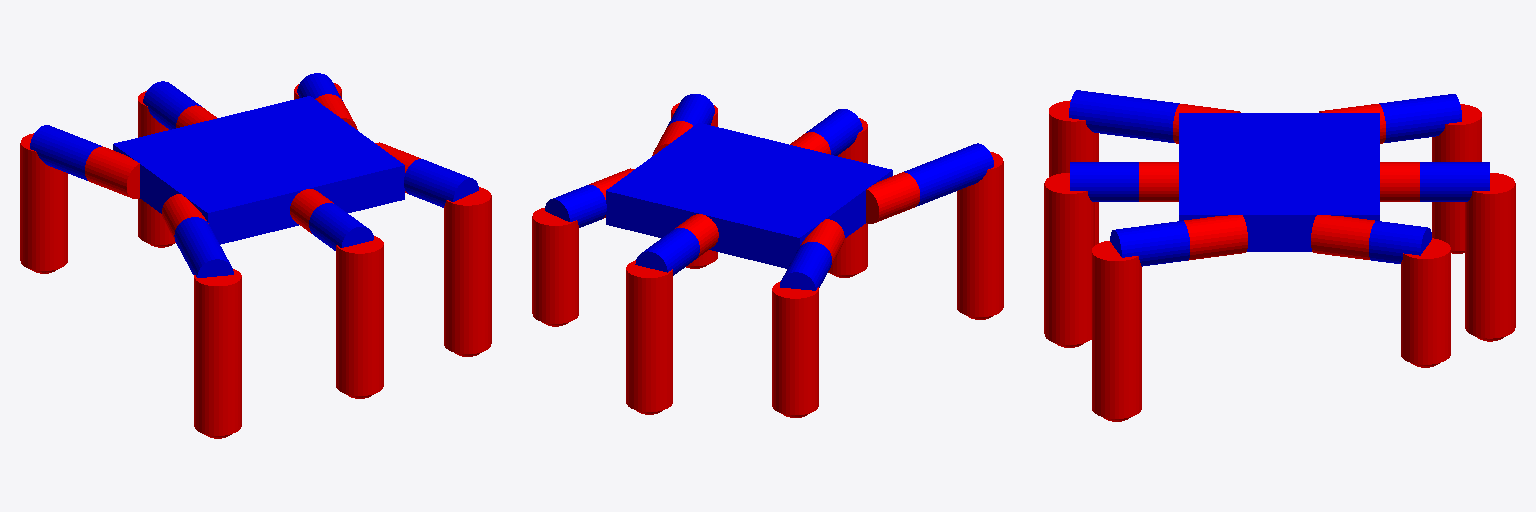
--- Facts derived from the render (not from the file) ---
The picture shows the robot from 3 angles, left to right: view 1: azimuth 30°, elevation 25°; view 2: azimuth 150°, elevation 25°; view 3: azimuth 270°, elevation 25°; orthographic projection.
Robot: pexod — 19 links, 18 joints (18 revolute); root link base_link; default pose: every joint at zero.
Visible links, largest first — view 1: base_link, leg_5_3, leg_3_3, leg_4_3, leg_0_3, leg_5_2, leg_3_2, leg_0_2, leg_0_1, leg_4_2, leg_1_3, leg_1_2 (+5 smaller); view 2: base_link, leg_1_3, leg_5_3, leg_0_3, leg_2_3, leg_5_2, leg_5_1, leg_4_3, leg_1_2, leg_0_2, leg_2_2, leg_4_2 (+3 smaller); view 3: base_link, leg_3_3, leg_4_3, leg_1_3, leg_2_3, leg_5_2, leg_0_3, leg_0_2, leg_5_3, leg_3_2, leg_1_2, leg_4_2 (+7 smaller).
Link boxes in pixels (x1,y1,x2,y2): base_link: [113, 96, 404, 244]; leg_5_3: [194, 269, 241, 438]; leg_3_3: [444, 187, 491, 356]; leg_4_3: [336, 236, 383, 398]; leg_0_3: [20, 133, 67, 273]; leg_5_2: [174, 217, 233, 277]; leg_3_2: [404, 159, 478, 207]; leg_0_2: [30, 125, 101, 180]; leg_0_1: [85, 146, 139, 198]; leg_4_2: [309, 203, 373, 250]; leg_1_3: [138, 91, 175, 247]; leg_1_2: [143, 81, 201, 129]; base_link: [606, 123, 892, 268]; leg_1_3: [626, 260, 672, 414]; leg_5_3: [957, 152, 1003, 319]; leg_0_3: [772, 281, 818, 417]; leg_2_3: [532, 208, 578, 326]; leg_5_2: [904, 143, 993, 206]; leg_5_1: [866, 172, 919, 223]; leg_4_3: [828, 118, 867, 277]; leg_1_2: [635, 228, 699, 275]; leg_0_2: [780, 242, 831, 290]; leg_2_2: [545, 185, 606, 227]; leg_4_2: [806, 109, 862, 155]; base_link: [1179, 113, 1379, 251]; leg_3_3: [1092, 241, 1141, 421]; leg_4_3: [1044, 173, 1094, 347]; leg_1_3: [1465, 173, 1515, 341]; leg_2_3: [1401, 238, 1450, 367]; leg_5_2: [1069, 90, 1179, 142]; leg_0_3: [1432, 104, 1481, 253]; leg_0_2: [1379, 94, 1461, 142]; leg_5_3: [1049, 100, 1098, 244]; leg_3_2: [1110, 221, 1189, 266]; leg_1_2: [1420, 162, 1489, 201]; leg_4_2: [1070, 162, 1138, 201].
Size in the robot's own frame: 0.3782 by 0.4679 by 0.2062 metres.
Geometry: primitives only (box / cylinder / sphere), no mesh files.

The robot description file, URDF, robot "pexod":
<?xml version="1.0" ?>
<!-- =================================================================================== -->
<!-- |    This document was autogenerated by xacro from pexod.xacro                    | -->
<!-- |    EDITING THIS FILE BY HAND IS NOT RECOMMENDED                                 | -->
<!-- =================================================================================== -->
<robot name="pexod" xmlns:xacro="http://www.ros.org/wiki/xacro">
  <!-- <xacro:include filename="$(find pexod_description)/urdf/pexod_control.xacro" /> -->
  <!-- MATERIALS -->
  <material name="Blue">
    <color rgba="0 0 1 1"/>
  </material>
  <material name="Red">
    <color rgba="1 0 0 1"/>
  </material>
  <material name="Green">
    <color rgba="0 1 0 1"/>
  </material>
  <material name="Yellow">
    <color rgba="1 1 0 1"/>
  </material>
  <material name="LightGrey">
    <color rgba="0.6 0.6 0.6 1.0"/>
  </material>
  <!-- END OF MATERIALS -->
  <!-- XACRO MACROS FOR VISUALS AND COLLISIONS -->
  <!-- END OF XACRO MACROS -->
  <!-- TORSO -->
  <link name="base_link">
    <visual>
      <origin rpy="0 0 0" xyz="0 0 0"/>
      <geometry>
        <box size="0.24 0.2 0.04"/>
      </geometry>
      <material name="Blue"/>
    </visual>
    <collision>
      <origin rpy="0 0 0" xyz="0 0 0"/>
      <geometry>
        <box size="0.24 0.2 0.04"/>
      </geometry>
    </collision>
    <inertial>
      <!-- CENTER OF MASS -->
      <origin rpy="0 0 0" xyz="0 0 0"/>
      <mass value="1.031"/>
      <!-- box inertia: 1/12*m(y^2+z^2), ... -->
      <inertia ixx="0.00357413333333" ixy="0" ixz="0" iyy="0.00508626666667" iyz="0" izz="0.00838546666667"/>
    </inertial>
  </link>
  <!-- XACRO MACRO FOR LEGS LINKS/JOINTS -->
  <!-- END OF LEG LINKS/JOINTS -->
  <joint name="body_leg_2" type="revolute">
    <parent link="base_link"/>
    <child link="leg_2_1"/>
    <limit effort="30.0" lower="-1.57079632679" upper="1.57079632679" velocity="7.0"/>
    <origin rpy="0 0 -0.3" xyz="0.11 0.04 0"/>
    <!-- <xacro:if value="${index == 5 or index == 4 or index == 3}">
                <axis xyz="0 0 1"/>
            </xacro:if>
            <xacro:if value="${index == 2 or index == 1 or index == 0}"> -->
    <axis xyz="0 0 1"/>
    <!-- </xacro:if> -->
    <dynamics damping="0.0"/>
  </joint>
  <link name="leg_2_1">
    <visual>
      <origin rpy="1.57079632679 0 0" xyz="0.01 0.03 0"/>
      <geometry>
        <cylinder length="0.06" radius="0.02"/>
      </geometry>
      <material name="Red"/>
    </visual>
    <collision>
      <origin rpy="1.57079632679 0 0" xyz="0.01 0.03 0"/>
      <geometry>
        <box size="0.02 0.02 0.06"/>
      </geometry>
    </collision>
    <inertial>
      <!-- CENTER OF MASS -->
      <origin rpy="1.57079632679 0 0" xyz="0.01 0.03 0"/>
      <mass value="0.02"/>
      <!-- box inertia: 1/12*m(y^2+z^2), ... -->
      <inertia ixx="6.66666666667e-06" ixy="0" ixz="0" iyy="6.66666666667e-06" iyz="0" izz="1.33333333333e-06"/>
    </inertial>
  </link>
  <joint name="leg_2_1_2" type="revolute">
    <parent link="leg_2_1"/>
    <child link="leg_2_2"/>
    <limit effort="30.0" lower="-0.78539816339" upper="0.78539816339" velocity="7.0"/>
    <origin rpy="0 0 0" xyz="0 0.06 0"/>
    <axis xyz="1 0 0"/>
    <dynamics damping="0.0"/>
  </joint>
  <link name="leg_2_2">
    <visual>
      <origin rpy="1.57079632679 0 0" xyz="0.01 0.0269366507608 0"/>
      <geometry>
        <cylinder length="0.0538733015215" radius="0.02"/>
      </geometry>
      <material name="Blue"/>
    </visual>
    <collision>
      <origin rpy="1.57079632679 0 0" xyz="0.01 0.0269366507608 0"/>
      <geometry>
        <box size="0.02 0.02 0.0538733015215"/>
      </geometry>
    </collision>
    <inertial>
      <!-- CENTER OF MASS -->
      <origin rpy="1.57079632679 0 0" xyz="0.01 0.0269366507608 0"/>
      <mass value="0.184"/>
      <!-- box inertia: 1/12*m(y^2+z^2), ... -->
      <inertia ixx="5.06357667913e-05" ixy="0" ixz="0" iyy="5.06357667913e-05" iyz="0" izz="1.22666666667e-05"/>
    </inertial>
  </link>
  <joint name="leg_2_2_3" type="revolute">
    <parent link="leg_2_2"/>
    <child link="leg_2_3"/>
    <limit effort="30.0" lower="-0.78539816339" upper="0.78539816339" velocity="7.0"/>
    <origin rpy="-1.57079632679 0 0" xyz="0 0.0538733015215 0"/>
    <axis xyz="-1 0 0"/>
    <dynamics damping="0.0"/>
  </joint>
  <link name="leg_2_3">
    <visual>
      <origin rpy="1.57079632679 0 0" xyz="0.0125 0.0579227001735 0"/>
      <geometry>
        <cylinder length="0.115845400347" radius="0.025"/>
      </geometry>
      <material name="Red"/>
    </visual>
    <visual>
      <origin rpy="1.57079632679 0 0" xyz="0.0125 0.103345400347 0"/>
      <geometry>
        <sphere radius="0.025"/>
      </geometry>
      <material name="Red"/>
    </visual>
    <collision>
      <origin rpy="1.57079632679 0 0" xyz="0.0125 0.0579227001735 0"/>
      <geometry>
        <box size="0.025 0.025 0.115845400347"/>
      </geometry>
    </collision>
    <collision>
      <origin rpy="1.57079632679 0 0" xyz="0.0125 0.103345400347 0"/>
      <geometry>
        <sphere radius="0.025"/>
      </geometry>
      <material name="Red"/>
    </collision>
    <inertial>
      <!-- CENTER OF MASS -->
      <origin rpy="1.57079632679 0 0" xyz="0.0125 0.0579227001735 0"/>
      <mass value="0.04"/>
      <!-- box inertia: 1/12*m(y^2+z^2), ... -->
      <inertia ixx="4.68171892719e-05" ixy="0" ixz="0" iyy="4.68171892719e-05" iyz="0" izz="4.16666666667e-06"/>
    </inertial>
  </link>
  <joint name="body_leg_3" type="revolute">
    <parent link="base_link"/>
    <child link="leg_3_1"/>
    <limit effort="30.0" lower="-1.57079632679" upper="1.57079632679" velocity="7.0"/>
    <origin rpy="0 0 0.3" xyz="0.11 -0.04 0"/>
    <!-- <xacro:if value="${index == 5 or index == 4 or index == 3}">
                <axis xyz="0 0 1"/>
            </xacro:if>
            <xacro:if value="${index == 2 or index == 1 or index == 0}"> -->
    <axis xyz="0 0 1"/>
    <!-- </xacro:if> -->
    <dynamics damping="0.0"/>
  </joint>
  <link name="leg_3_1">
    <visual>
      <origin rpy="1.57079632679 0 0" xyz="0.01 -0.03 0"/>
      <geometry>
        <cylinder length="0.06" radius="0.02"/>
      </geometry>
      <material name="Red"/>
    </visual>
    <collision>
      <origin rpy="1.57079632679 0 0" xyz="0.01 -0.03 0"/>
      <geometry>
        <box size="0.02 0.02 0.06"/>
      </geometry>
    </collision>
    <inertial>
      <!-- CENTER OF MASS -->
      <origin rpy="1.57079632679 0 0" xyz="0.01 -0.03 0"/>
      <mass value="0.02"/>
      <!-- box inertia: 1/12*m(y^2+z^2), ... -->
      <inertia ixx="6.66666666667e-06" ixy="0" ixz="0" iyy="6.66666666667e-06" iyz="0" izz="1.33333333333e-06"/>
    </inertial>
  </link>
  <joint name="leg_3_1_2" type="revolute">
    <parent link="leg_3_1"/>
    <child link="leg_3_2"/>
    <limit effort="30.0" lower="-0.78539816339" upper="0.78539816339" velocity="7.0"/>
    <origin rpy="0 0 0" xyz="0 -0.06 0"/>
    <axis xyz="-1 0 0"/>
    <dynamics damping="0.0"/>
  </joint>
  <link name="leg_3_2">
    <visual>
      <origin rpy="1.57079632679 0 0" xyz="0.01 -0.0355808342289 0"/>
      <geometry>
        <cylinder length="0.0711616684579" radius="0.02"/>
      </geometry>
      <material name="Blue"/>
    </visual>
    <collision>
      <origin rpy="1.57079632679 0 0" xyz="0.01 -0.0355808342289 0"/>
      <geometry>
        <box size="0.02 0.02 0.0711616684579"/>
      </geometry>
    </collision>
    <inertial>
      <!-- CENTER OF MASS -->
      <origin rpy="1.57079632679 0 0" xyz="0.01 -0.0355808342289 0"/>
      <mass value="0.184"/>
      <!-- box inertia: 1/12*m(y^2+z^2), ... -->
      <inertia ixx="8.37810735516e-05" ixy="0" ixz="0" iyy="8.37810735516e-05" iyz="0" izz="1.22666666667e-05"/>
    </inertial>
  </link>
  <joint name="leg_3_2_3" type="revolute">
    <parent link="leg_3_2"/>
    <child link="leg_3_3"/>
    <limit effort="30.0" lower="-0.78539816339" upper="0.78539816339" velocity="7.0"/>
    <origin rpy="1.57079632679 0 0" xyz="0 -0.0711616684579 0"/>
    <axis xyz="1 0 0"/>
    <dynamics damping="0.0"/>
  </joint>
  <link name="leg_3_3">
    <visual>
      <origin rpy="1.57079632679 0 0" xyz="0.0125 -0.08635104455 0"/>
      <geometry>
        <cylinder length="0.1727020891" radius="0.025"/>
      </geometry>
      <material name="Red"/>
    </visual>
    <visual>
      <origin rpy="1.57079632679 0 0" xyz="0.0125 -0.1602020891 0"/>
      <geometry>
        <sphere radius="0.025"/>
      </geometry>
      <material name="Red"/>
    </visual>
    <collision>
      <origin rpy="1.57079632679 0 0" xyz="0.0125 -0.08635104455 0"/>
      <geometry>
        <box size="0.025 0.025 0.1727020891"/>
      </geometry>
    </collision>
    <collision>
      <origin rpy="1.57079632679 0 0" xyz="0.0125 -0.1602020891 0"/>
      <geometry>
        <sphere radius="0.025"/>
      </geometry>
      <material name="Red"/>
    </collision>
    <inertial>
      <!-- CENTER OF MASS -->
      <origin rpy="1.57079632679 0 0" xyz="0.0125 -0.08635104455 0"/>
      <mass value="0.04"/>
      <!-- box inertia: 1/12*m(y^2+z^2), ... -->
      <inertia ixx="0.000101503371932" ixy="0" ixz="0" iyy="0.000101503371932" iyz="0" izz="4.16666666667e-06"/>
    </inertial>
  </link>
  <joint name="body_leg_0" type="revolute">
    <parent link="base_link"/>
    <child link="leg_0_1"/>
    <limit effort="30.0" lower="-1.57079632679" upper="1.57079632679" velocity="7.0"/>
    <origin rpy="0 0 0.3" xyz="-0.13 0.04 0"/>
    <!-- <xacro:if value="${index == 5 or index == 4 or index == 3}">
                <axis xyz="0 0 1"/>
            </xacro:if>
            <xacro:if value="${index == 2 or index == 1 or index == 0}"> -->
    <axis xyz="0 0 1"/>
    <!-- </xacro:if> -->
    <dynamics damping="0.0"/>
  </joint>
  <link name="leg_0_1">
    <visual>
      <origin rpy="1.57079632679 0 0" xyz="0.01 0.03 0"/>
      <geometry>
        <cylinder length="0.06" radius="0.02"/>
      </geometry>
      <material name="Red"/>
    </visual>
    <collision>
      <origin rpy="1.57079632679 0 0" xyz="0.01 0.03 0"/>
      <geometry>
        <box size="0.02 0.02 0.06"/>
      </geometry>
    </collision>
    <inertial>
      <!-- CENTER OF MASS -->
      <origin rpy="1.57079632679 0 0" xyz="0.01 0.03 0"/>
      <mass value="0.02"/>
      <!-- box inertia: 1/12*m(y^2+z^2), ... -->
      <inertia ixx="6.66666666667e-06" ixy="0" ixz="0" iyy="6.66666666667e-06" iyz="0" izz="1.33333333333e-06"/>
    </inertial>
  </link>
  <joint name="leg_0_1_2" type="revolute">
    <parent link="leg_0_1"/>
    <child link="leg_0_2"/>
    <limit effort="30.0" lower="-0.78539816339" upper="0.78539816339" velocity="7.0"/>
    <origin rpy="0 0 0" xyz="0 0.06 0"/>
    <axis xyz="1 0 0"/>
    <dynamics damping="0.0"/>
  </joint>
  <link name="leg_0_2">
    <visual>
      <origin rpy="1.57079632679 0 0" xyz="0.01 0.0395444746221 0"/>
      <geometry>
        <cylinder length="0.0790889492442" radius="0.02"/>
      </geometry>
      <material name="Blue"/>
    </visual>
    <collision>
      <origin rpy="1.57079632679 0 0" xyz="0.01 0.0395444746221 0"/>
      <geometry>
        <box size="0.02 0.02 0.0790889492442"/>
      </geometry>
    </collision>
    <inertial>
      <!-- CENTER OF MASS -->
      <origin rpy="1.57079632679 0 0" xyz="0.01 0.0395444746221 0"/>
      <mass value="0.184"/>
      <!-- box inertia: 1/12*m(y^2+z^2), ... -->
      <inertia ixx="0.000102044282352" ixy="0" ixz="0" iyy="0.000102044282352" iyz="0" izz="1.22666666667e-05"/>
    </inertial>
  </link>
  <joint name="leg_0_2_3" type="revolute">
    <parent link="leg_0_2"/>
    <child link="leg_0_3"/>
    <limit effort="30.0" lower="-0.78539816339" upper="0.78539816339" velocity="7.0"/>
    <origin rpy="-1.57079632679 0 0" xyz="0 0.0790889492442 0"/>
    <axis xyz="-1 0 0"/>
    <dynamics damping="0.0"/>
  </joint>
  <link name="leg_0_3">
    <visual>
      <origin rpy="1.57079632679 0 0" xyz="0.0125 0.0689730925875 0"/>
      <geometry>
        <cylinder length="0.137946185175" radius="0.025"/>
      </geometry>
      <material name="Red"/>
    </visual>
    <visual>
      <origin rpy="1.57079632679 0 0" xyz="0.0125 0.125446185175 0"/>
      <geometry>
        <sphere radius="0.025"/>
      </geometry>
      <material name="Red"/>
    </visual>
    <collision>
      <origin rpy="1.57079632679 0 0" xyz="0.0125 0.0689730925875 0"/>
      <geometry>
        <box size="0.025 0.025 0.137946185175"/>
      </geometry>
    </collision>
    <collision>
      <origin rpy="1.57079632679 0 0" xyz="0.0125 0.125446185175 0"/>
      <geometry>
        <sphere radius="0.025"/>
      </geometry>
      <material name="Red"/>
    </collision>
    <inertial>
      <!-- CENTER OF MASS -->
      <origin rpy="1.57079632679 0 0" xyz="0.0125 0.0689730925875 0"/>
      <mass value="0.04"/>
      <!-- box inertia: 1/12*m(y^2+z^2), ... -->
      <inertia ixx="6.55138333478e-05" ixy="0" ixz="0" iyy="6.55138333478e-05" iyz="0" izz="4.16666666667e-06"/>
    </inertial>
  </link>
  <joint name="body_leg_5" type="revolute">
    <parent link="base_link"/>
    <child link="leg_5_1"/>
    <limit effort="30.0" lower="-1.57079632679" upper="1.57079632679" velocity="7.0"/>
    <origin rpy="0 0 -0.3" xyz="-0.13 -0.04 0"/>
    <!-- <xacro:if value="${index == 5 or index == 4 or index == 3}">
                <axis xyz="0 0 1"/>
            </xacro:if>
            <xacro:if value="${index == 2 or index == 1 or index == 0}"> -->
    <axis xyz="0 0 1"/>
    <!-- </xacro:if> -->
    <dynamics damping="0.0"/>
  </joint>
  <link name="leg_5_1">
    <visual>
      <origin rpy="1.57079632679 0 0" xyz="0.01 -0.03 0"/>
      <geometry>
        <cylinder length="0.06" radius="0.02"/>
      </geometry>
      <material name="Red"/>
    </visual>
    <collision>
      <origin rpy="1.57079632679 0 0" xyz="0.01 -0.03 0"/>
      <geometry>
        <box size="0.02 0.02 0.06"/>
      </geometry>
    </collision>
    <inertial>
      <!-- CENTER OF MASS -->
      <origin rpy="1.57079632679 0 0" xyz="0.01 -0.03 0"/>
      <mass value="0.02"/>
      <!-- box inertia: 1/12*m(y^2+z^2), ... -->
      <inertia ixx="6.66666666667e-06" ixy="0" ixz="0" iyy="6.66666666667e-06" iyz="0" izz="1.33333333333e-06"/>
    </inertial>
  </link>
  <joint name="leg_5_1_2" type="revolute">
    <parent link="leg_5_1"/>
    <child link="leg_5_2"/>
    <limit effort="30.0" lower="-0.78539816339" upper="0.78539816339" velocity="7.0"/>
    <origin rpy="0 0 0" xyz="0 -0.06 0"/>
    <axis xyz="-1 0 0"/>
    <dynamics damping="0.0"/>
  </joint>
  <link name="leg_5_2">
    <visual>
      <origin rpy="1.57079632679 0 0" xyz="0.01 -0.0540681912255 0"/>
      <geometry>
        <cylinder length="0.108136382451" radius="0.02"/>
      </geometry>
      <material name="Blue"/>
    </visual>
    <collision>
      <origin rpy="1.57079632679 0 0" xyz="0.01 -0.0540681912255 0"/>
      <geometry>
        <box size="0.02 0.02 0.108136382451"/>
      </geometry>
    </collision>
    <inertial>
      <!-- CENTER OF MASS -->
      <origin rpy="1.57079632679 0 0" xyz="0.01 -0.0540681912255 0"/>
      <mass value="0.184"/>
      <!-- box inertia: 1/12*m(y^2+z^2), ... -->
      <inertia ixx="0.000185433317214" ixy="0" ixz="0" iyy="0.000185433317214" iyz="0" izz="1.22666666667e-05"/>
    </inertial>
  </link>
  <joint name="leg_5_2_3" type="revolute">
    <parent link="leg_5_2"/>
    <child link="leg_5_3"/>
    <limit effort="30.0" lower="-0.78539816339" upper="0.78539816339" velocity="7.0"/>
    <origin rpy="1.57079632679 0 0" xyz="0 -0.108136382451 0"/>
    <axis xyz="1 0 0"/>
    <dynamics damping="0.0"/>
  </joint>
  <link name="leg_5_3">
    <visual>
      <origin rpy="1.57079632679 0 0" xyz="0.0125 -0.0868702571315 0"/>
      <geometry>
        <cylinder length="0.173740514263" radius="0.025"/>
      </geometry>
      <material name="Red"/>
    </visual>
    <visual>
      <origin rpy="1.57079632679 0 0" xyz="0.0125 -0.161240514263 0"/>
      <geometry>
        <sphere radius="0.025"/>
      </geometry>
      <material name="Red"/>
    </visual>
    <collision>
      <origin rpy="1.57079632679 0 0" xyz="0.0125 -0.0868702571315 0"/>
      <geometry>
        <box size="0.025 0.025 0.173740514263"/>
      </geometry>
    </collision>
    <collision>
      <origin rpy="1.57079632679 0 0" xyz="0.0125 -0.161240514263 0"/>
      <geometry>
        <sphere radius="0.025"/>
      </geometry>
      <material name="Red"/>
    </collision>
    <inertial>
      <!-- CENTER OF MASS -->
      <origin rpy="1.57079632679 0 0" xyz="0.0125 -0.0868702571315 0"/>
      <mass value="0.04"/>
      <!-- box inertia: 1/12*m(y^2+z^2), ... -->
      <inertia ixx="0.000102702554321" ixy="0" ixz="0" iyy="0.000102702554321" iyz="0" izz="4.16666666667e-06"/>
    </inertial>
  </link>
  <joint name="body_leg_1" type="revolute">
    <parent link="base_link"/>
    <child link="leg_1_1"/>
    <limit effort="30.0" lower="-1.57079632679" upper="1.57079632679" velocity="7.0"/>
    <origin rpy="0 0 0" xyz="-0.01 0.08 0"/>
    <!-- <xacro:if value="${index == 5 or index == 4 or index == 3}">
                <axis xyz="0 0 1"/>
            </xacro:if>
            <xacro:if value="${index == 2 or index == 1 or index == 0}"> -->
    <axis xyz="0 0 1"/>
    <!-- </xacro:if> -->
    <dynamics damping="0.0"/>
  </joint>
  <link name="leg_1_1">
    <visual>
      <origin rpy="1.57079632679 0 0" xyz="0.01 0.03 0"/>
      <geometry>
        <cylinder length="0.06" radius="0.02"/>
      </geometry>
      <material name="Red"/>
    </visual>
    <collision>
      <origin rpy="1.57079632679 0 0" xyz="0.01 0.03 0"/>
      <geometry>
        <box size="0.02 0.02 0.06"/>
      </geometry>
    </collision>
    <inertial>
      <!-- CENTER OF MASS -->
      <origin rpy="1.57079632679 0 0" xyz="0.01 0.03 0"/>
      <mass value="0.02"/>
      <!-- box inertia: 1/12*m(y^2+z^2), ... -->
      <inertia ixx="6.66666666667e-06" ixy="0" ixz="0" iyy="6.66666666667e-06" iyz="0" izz="1.33333333333e-06"/>
    </inertial>
  </link>
  <joint name="leg_1_1_2" type="revolute">
    <parent link="leg_1_1"/>
    <child link="leg_1_2"/>
    <limit effort="30.0" lower="-0.78539816339" upper="0.78539816339" velocity="7.0"/>
    <origin rpy="0 0 0" xyz="0 0.06 0"/>
    <axis xyz="1 0 0"/>
    <dynamics damping="0.0"/>
  </joint>
  <link name="leg_1_2">
    <visual>
      <origin rpy="1.57079632679 0 0" xyz="0.01 0.0347048621147 0"/>
      <geometry>
        <cylinder length="0.0694097242294" radius="0.02"/>
      </geometry>
      <material name="Blue"/>
    </visual>
    <collision>
      <origin rpy="1.57079632679 0 0" xyz="0.01 0.0347048621147 0"/>
      <geometry>
        <box size="0.02 0.02 0.0694097242294"/>
      </geometry>
    </collision>
    <inertial>
      <!-- CENTER OF MASS -->
      <origin rpy="1.57079632679 0 0" xyz="0.01 0.0347048621147 0"/>
      <mass value="0.184"/>
      <!-- box inertia: 1/12*m(y^2+z^2), ... -->
      <inertia ixx="8.00048838699e-05" ixy="0" ixz="0" iyy="8.00048838699e-05" iyz="0" izz="1.22666666667e-05"/>
    </inertial>
  </link>
  <joint name="leg_1_2_3" type="revolute">
    <parent link="leg_1_2"/>
    <child link="leg_1_3"/>
    <limit effort="30.0" lower="-0.78539816339" upper="0.78539816339" velocity="7.0"/>
    <origin rpy="-1.57079632679 0 0" xyz="0 0.0694097242294 0"/>
    <axis xyz="-1 0 0"/>
    <dynamics damping="0.0"/>
  </joint>
  <link name="leg_1_3">
    <visual>
      <origin rpy="1.57079632679 0 0" xyz="0.0125 0.0792342949395 0"/>
      <geometry>
        <cylinder length="0.158468589879" radius="0.025"/>
      </geometry>
      <material name="Red"/>
    </visual>
    <visual>
      <origin rpy="1.57079632679 0 0" xyz="0.0125 0.145968589879 0"/>
      <geometry>
        <sphere radius="0.025"/>
      </geometry>
      <material name="Red"/>
    </visual>
    <collision>
      <origin rpy="1.57079632679 0 0" xyz="0.0125 0.0792342949395 0"/>
      <geometry>
        <box size="0.025 0.025 0.158468589879"/>
      </geometry>
    </collision>
    <collision>
      <origin rpy="1.57079632679 0 0" xyz="0.0125 0.145968589879 0"/>
      <geometry>
        <sphere radius="0.025"/>
      </geometry>
      <material name="Red"/>
    </collision>
    <inertial>
      <!-- CENTER OF MASS -->
      <origin rpy="1.57079632679 0 0" xyz="0.0125 0.0792342949395 0"/>
      <mass value="0.04"/>
      <!-- box inertia: 1/12*m(y^2+z^2), ... -->
      <inertia ixx="8.57909799275e-05" ixy="0" ixz="0" iyy="8.57909799275e-05" iyz="0" izz="4.16666666667e-06"/>
    </inertial>
  </link>
  <joint name="body_leg_4" type="revolute">
    <parent link="base_link"/>
    <child link="leg_4_1"/>
    <limit effort="30.0" lower="-1.57079632679" upper="1.57079632679" velocity="7.0"/>
    <origin rpy="0 0 0" xyz="-0.01 -0.08 0"/>
    <!-- <xacro:if value="${index == 5 or index == 4 or index == 3}">
                <axis xyz="0 0 1"/>
            </xacro:if>
            <xacro:if value="${index == 2 or index == 1 or index == 0}"> -->
    <axis xyz="0 0 1"/>
    <!-- </xacro:if> -->
    <dynamics damping="0.0"/>
  </joint>
  <link name="leg_4_1">
    <visual>
      <origin rpy="1.57079632679 0 0" xyz="0.01 -0.03 0"/>
      <geometry>
        <cylinder length="0.06" radius="0.02"/>
      </geometry>
      <material name="Red"/>
    </visual>
    <collision>
      <origin rpy="1.57079632679 0 0" xyz="0.01 -0.03 0"/>
      <geometry>
        <box size="0.02 0.02 0.06"/>
      </geometry>
    </collision>
    <inertial>
      <!-- CENTER OF MASS -->
      <origin rpy="1.57079632679 0 0" xyz="0.01 -0.03 0"/>
      <mass value="0.02"/>
      <!-- box inertia: 1/12*m(y^2+z^2), ... -->
      <inertia ixx="6.66666666667e-06" ixy="0" ixz="0" iyy="6.66666666667e-06" iyz="0" izz="1.33333333333e-06"/>
    </inertial>
  </link>
  <joint name="leg_4_1_2" type="revolute">
    <parent link="leg_4_1"/>
    <child link="leg_4_2"/>
    <limit effort="30.0" lower="-0.78539816339" upper="0.78539816339" velocity="7.0"/>
    <origin rpy="0 0 0" xyz="0 -0.06 0"/>
    <axis xyz="-1 0 0"/>
    <dynamics damping="0.0"/>
  </joint>
  <link name="leg_4_2">
    <visual>
      <origin rpy="1.57079632679 0 0" xyz="0.01 -0.0342462738272 0"/>
      <geometry>
        <cylinder length="0.0684925476543" radius="0.02"/>
      </geometry>
      <material name="Blue"/>
    </visual>
    <collision>
      <origin rpy="1.57079632679 0 0" xyz="0.01 -0.0342462738272 0"/>
      <geometry>
        <box size="0.02 0.02 0.0684925476543"/>
      </geometry>
    </collision>
    <inertial>
      <!-- CENTER OF MASS -->
      <origin rpy="1.57079632679 0 0" xyz="0.01 -0.0342462738272 0"/>
      <mass value="0.184"/>
      <!-- box inertia: 1/12*m(y^2+z^2), ... -->
      <inertia ixx="7.8065512624e-05" ixy="0" ixz="0" iyy="7.8065512624e-05" iyz="0" izz="1.22666666667e-05"/>
    </inertial>
  </link>
  <joint name="leg_4_2_3" type="revolute">
    <parent link="leg_4_2"/>
    <child link="leg_4_3"/>
    <limit effort="30.0" lower="-0.78539816339" upper="0.78539816339" velocity="7.0"/>
    <origin rpy="1.57079632679 0 0" xyz="0 -0.0684925476543 0"/>
    <axis xyz="1 0 0"/>
    <dynamics damping="0.0"/>
  </joint>
  <link name="leg_4_3">
    <visual>
      <origin rpy="1.57079632679 0 0" xyz="0.0125 -0.082752313897 0"/>
      <geometry>
        <cylinder length="0.165504627794" radius="0.025"/>
      </geometry>
      <material name="Red"/>
    </visual>
    <visual>
      <origin rpy="1.57079632679 0 0" xyz="0.0125 -0.153004627794 0"/>
      <geometry>
        <sphere radius="0.025"/>
      </geometry>
      <material name="Red"/>
    </visual>
    <collision>
      <origin rpy="1.57079632679 0 0" xyz="0.0125 -0.082752313897 0"/>
      <geometry>
        <box size="0.025 0.025 0.165504627794"/>
      </geometry>
    </collision>
    <collision>
      <origin rpy="1.57079632679 0 0" xyz="0.0125 -0.153004627794 0"/>
      <geometry>
        <sphere radius="0.025"/>
      </geometry>
      <material name="Red"/>
    </collision>
    <inertial>
      <!-- CENTER OF MASS -->
      <origin rpy="1.57079632679 0 0" xyz="0.0125 -0.082752313897 0"/>
      <mass value="0.04"/>
      <!-- box inertia: 1/12*m(y^2+z^2), ... -->
      <inertia ixx="9.33892727374e-05" ixy="0" ixz="0" iyy="9.33892727374e-05" iyz="0" izz="4.16666666667e-06"/>
    </inertial>
  </link>
  <!-- END OF LEG LINKS/JOINTS -->
</robot>
